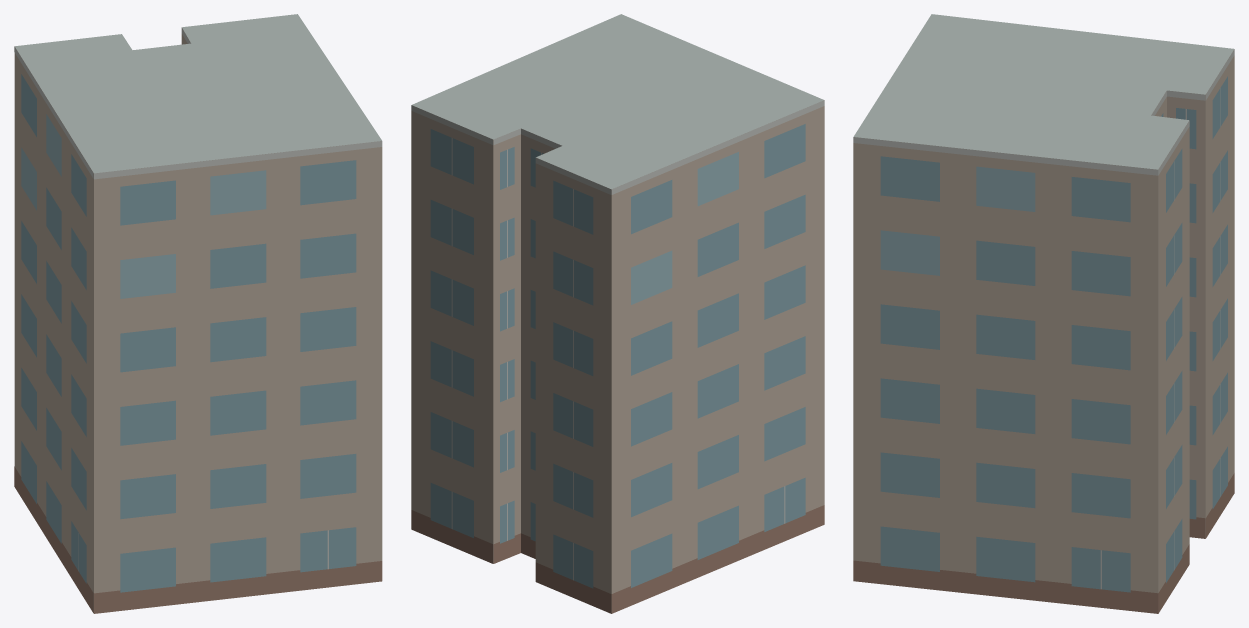
The model's file is survey-upis-32872305.glb.
3 views of the same model, side by side, from view 1: azimuth 30°, elevation 25°; view 2: azimuth 150°, elevation 25°; view 3: azimuth 270°, elevation 25° (orthographic). The views are drawn at different scales.
Visible parts, largest first — view 1: survey-upis-32872305.tmp; view 2: survey-upis-32872305.tmp; view 3: survey-upis-32872305.tmp.
Part boxes in pixels (x1,y1,x2,y2): survey-upis-32872305.tmp: (14, 14, 382, 613); survey-upis-32872305.tmp: (411, 14, 824, 613); survey-upis-32872305.tmp: (853, 14, 1234, 613).
Bounding box in the file's own units: 13.46 × 17.9 × 13.93.
